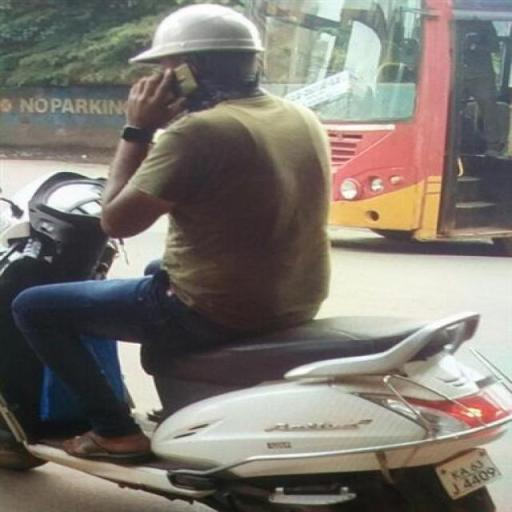using mobile: (122, 59, 212, 124)
